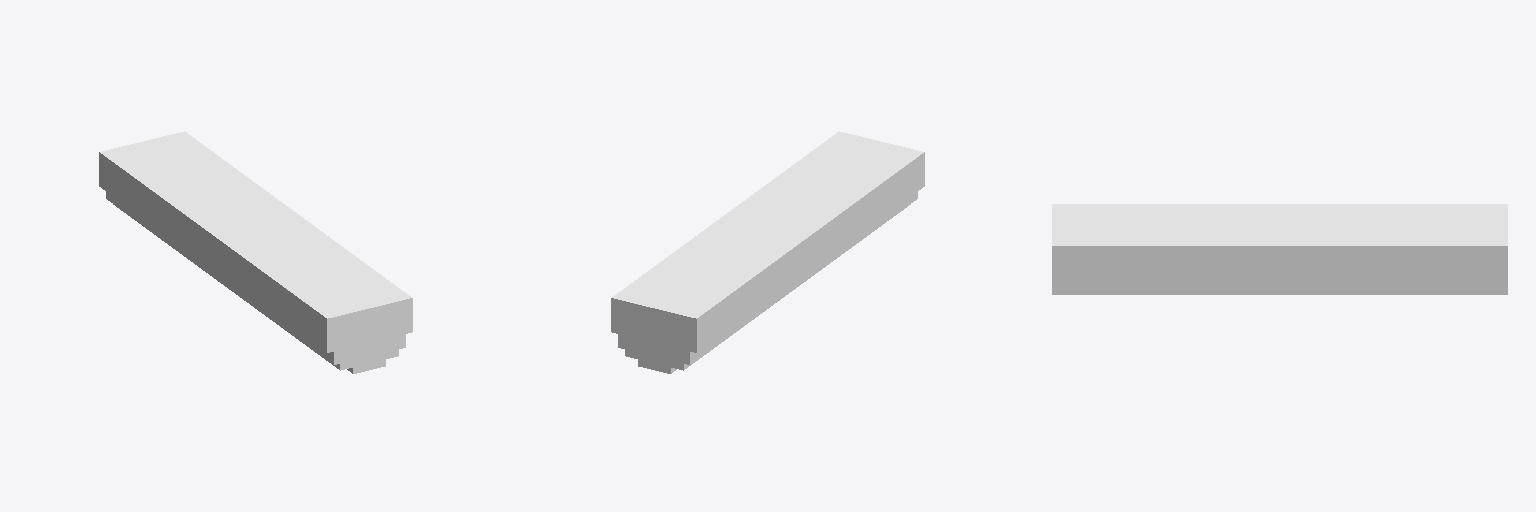
The model's file is PasoEstrecho.obj.
3 views of the same model, side by side, from view 1: azimuth 30°, elevation 25°; view 2: azimuth 150°, elevation 25°; view 3: azimuth 270°, elevation 25° (orthographic).
Parts seen in each view (by area): view 1: object 1; view 2: object 1; view 3: object 1.
Boxes of the visible parts, x1,y1,x2,y2 form: object 1: [99, 131, 412, 373]; object 1: [611, 131, 924, 373]; object 1: [1052, 204, 1507, 294].
Bounding box in the file's own units: 1.3 × 0.9 × 6.